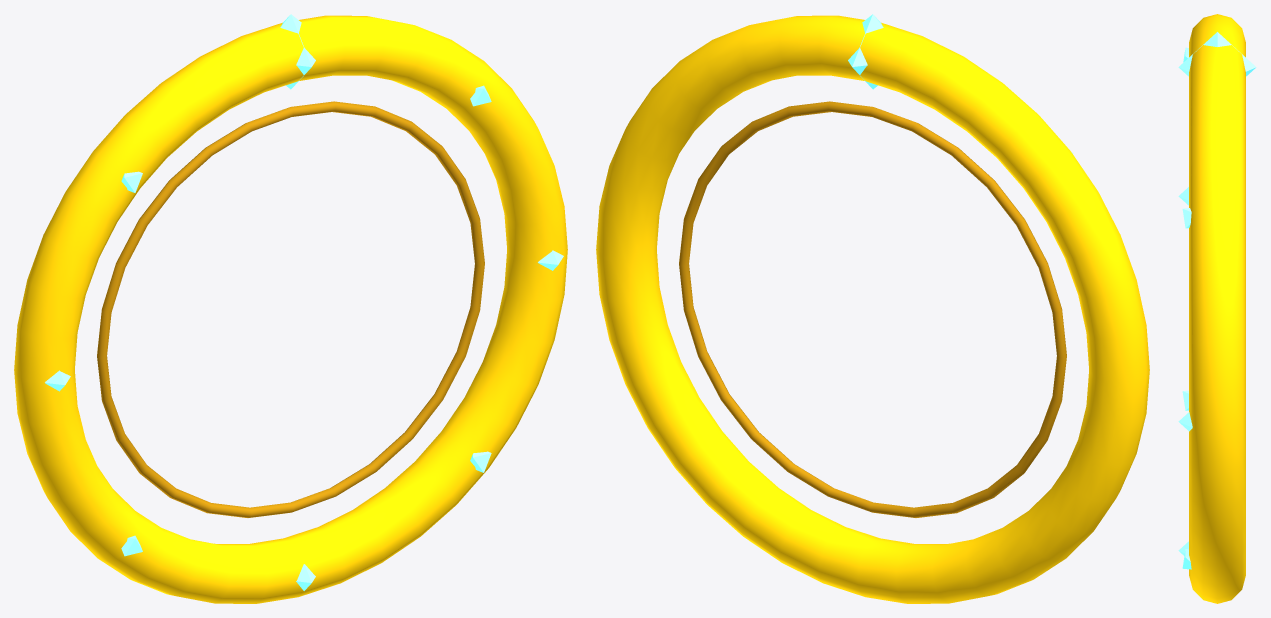
Rendered from ring.glb.
3 renders of one model, left to right at view 1: azimuth 30°, elevation 25°; view 2: azimuth 150°, elevation 25°; view 3: azimuth 270°, elevation 25°, orthographic. The views are drawn at different scales.
Bounding box in the file's own units: 3.32 × 3.38 × 0.44.
